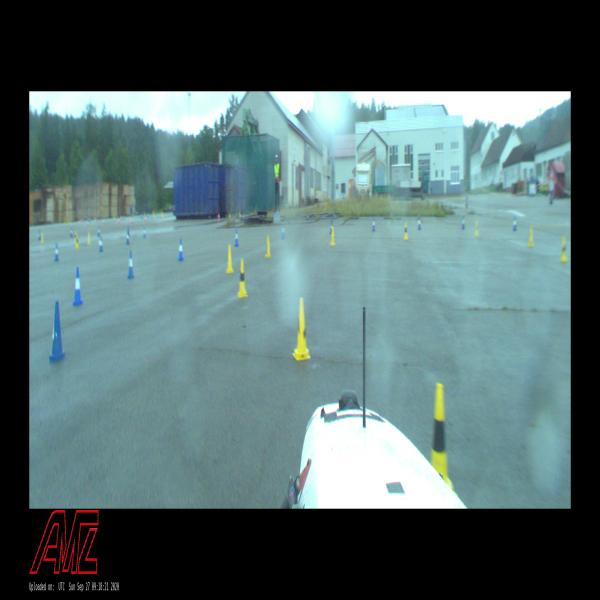blue_cone: (49, 301, 65, 362), (73, 268, 82, 306), (128, 251, 134, 278), (178, 238, 184, 261), (54, 243, 59, 262), (234, 228, 239, 247), (99, 237, 103, 252), (513, 216, 517, 231), (417, 217, 421, 230), (126, 230, 129, 245), (282, 224, 285, 239), (372, 217, 375, 231), (462, 216, 465, 229)
yellow_cone: (431, 383, 458, 499), (292, 298, 311, 361), (238, 259, 248, 297), (226, 245, 234, 273), (560, 236, 567, 262), (265, 236, 271, 258), (528, 225, 534, 247), (331, 227, 336, 246), (404, 222, 408, 240), (76, 235, 79, 248), (475, 221, 477, 237)
